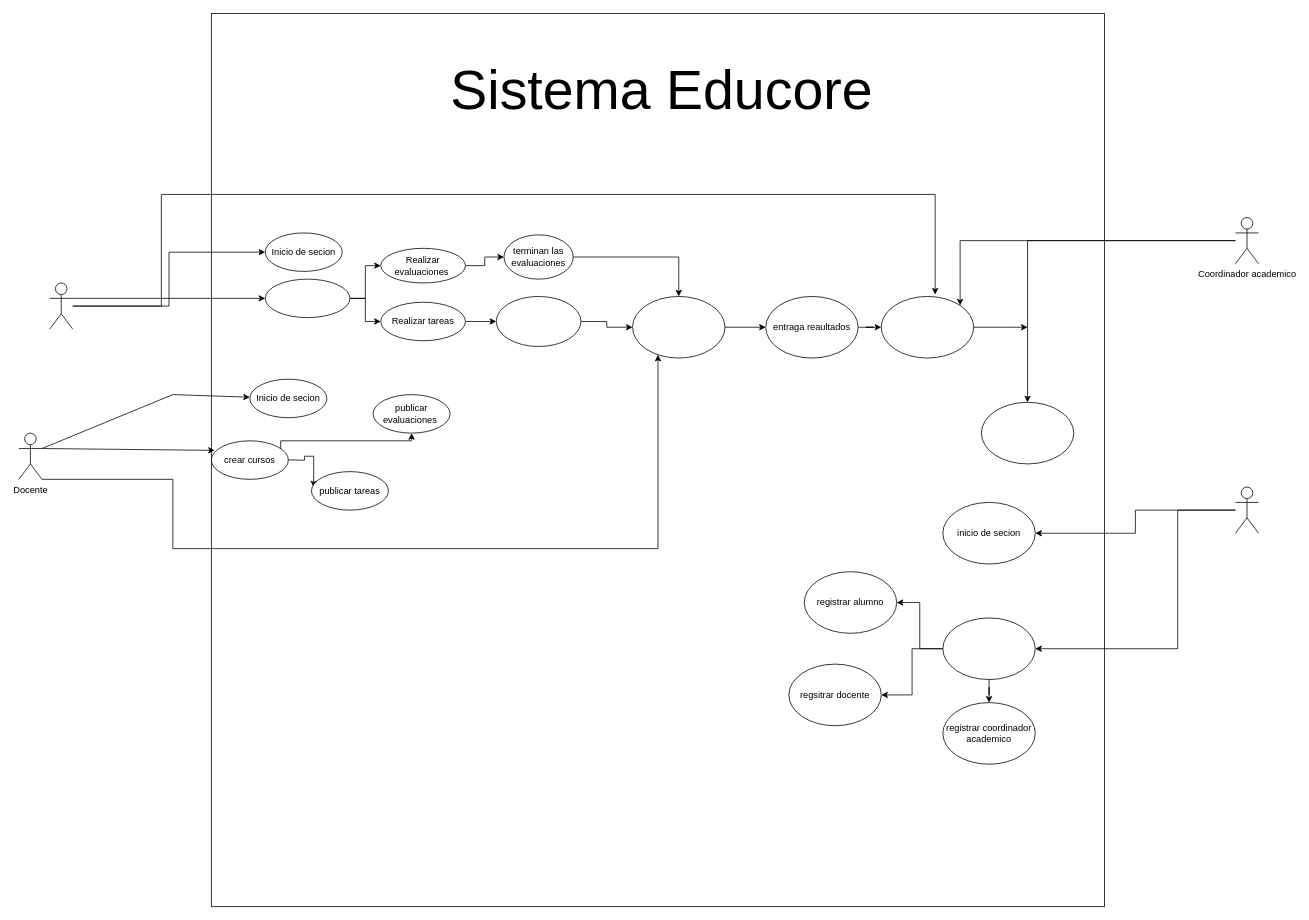
Image size: 1309x920. Some labels were removed from this diagram. Here are the shapes that lost their labels. From the top down, the box of each, then its label:
(49, 282, 73, 329): Alumnos
(264, 278, 350, 318): Incribirse a curos
(495, 296, 581, 346): terminan las tareas
(632, 296, 725, 358): Califica las tareas y las evaluaciones
(880, 296, 974, 358): revisan resultados
(981, 402, 1074, 464): realiza reporte de desempeño del alumnos
(1235, 486, 1259, 533): Administrador
(942, 617, 1035, 680): registros de usuarios
